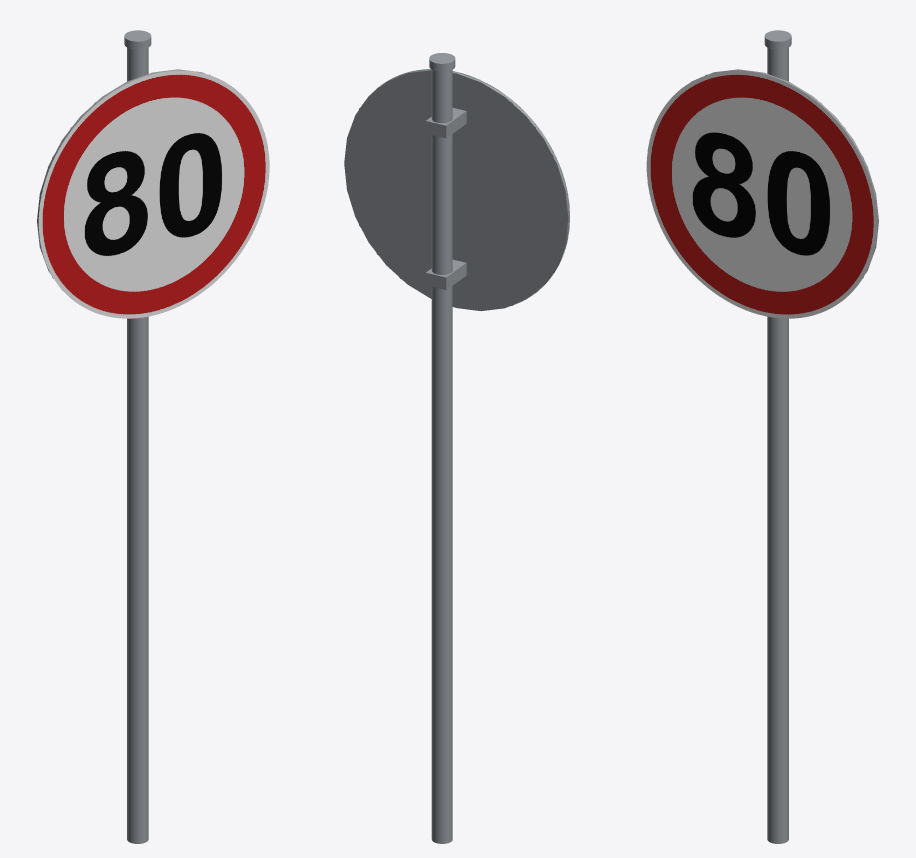
File: sign_speed80kph.dae
3 renders of one model, left to right at view 1: azimuth 30°, elevation 25°; view 2: azimuth 150°, elevation 25°; view 3: azimuth 330°, elevation 25°, orthographic. The views are drawn at different scales.
Parts seen in each view (by area): view 1: sign128, sign48, sign4; view 2: sign128, sign48, sign4; view 3: sign128, sign48, sign4.
Part boxes in pixels (x1,y1,x2,y2): sign128: [37, 30, 269, 843]; sign48: [52, 30, 210, 843]; sign4: [70, 30, 150, 843]; sign128: [344, 53, 569, 843]; sign48: [344, 53, 567, 843]; sign4: [344, 53, 567, 843]; sign128: [646, 30, 878, 843]; sign48: [705, 30, 863, 843]; sign4: [765, 30, 845, 843].
Size of the model in its own units: 0.9 by 0.1275 by 2.47.
2 materials, 1 textured.
